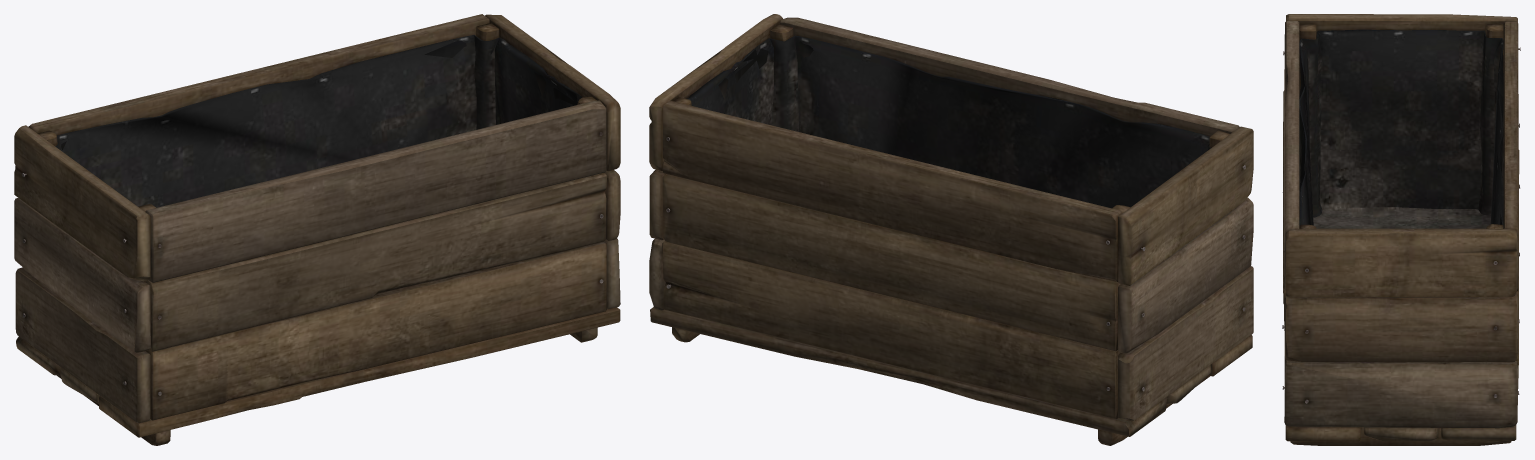
Rendered from StreetPlanterBox.obj.
3 renders of one model, left to right at view 1: azimuth 30°, elevation 25°; view 2: azimuth 150°, elevation 25°; view 3: azimuth 270°, elevation 25°, orthographic. The views are drawn at different scales.
Parts seen in each view (by area): view 1: Planter; view 2: Planter; view 3: Planter.
Part boxes in pixels (x1,y1,x2,y2): Planter: (14, 14, 620, 445); Planter: (649, 14, 1253, 445); Planter: (1282, 14, 1520, 445).
Bounding box in the file's own units: 0.9126 × 0.425 × 0.4136.
1 material, 1 textured.
